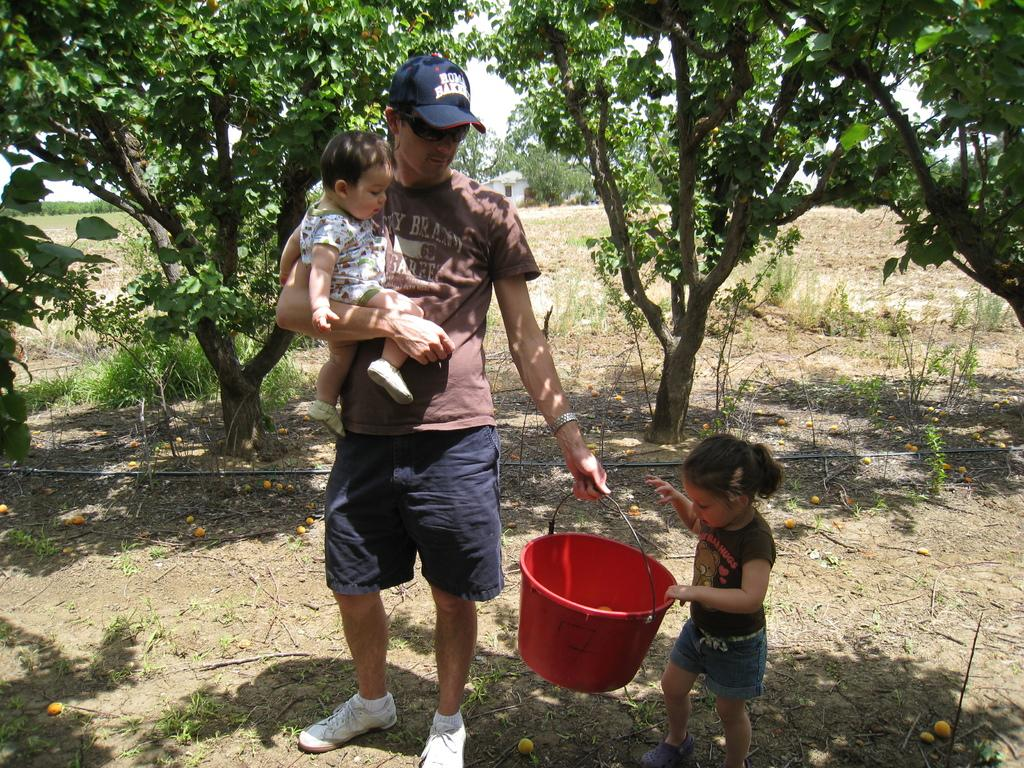Hat: (387, 51, 487, 134)
